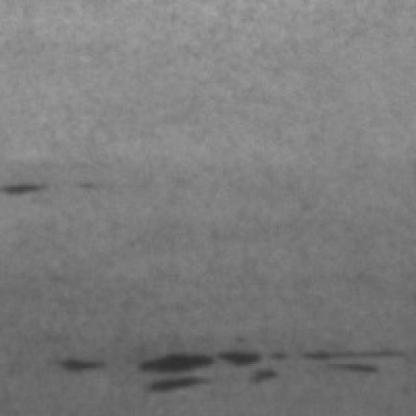inclusion: (135, 341, 416, 393), (56, 346, 112, 378), (2, 171, 71, 195)
